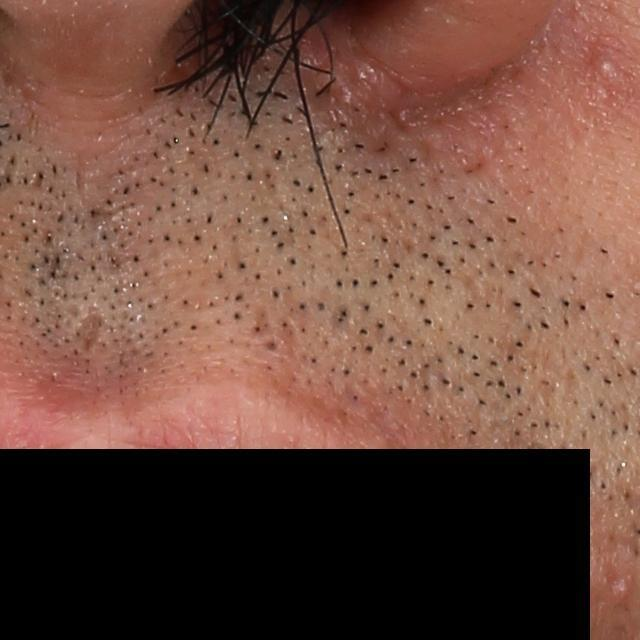atrophic_scar: (72, 300, 109, 358)
papule: (606, 568, 637, 605)
pustule: (586, 54, 628, 90)
